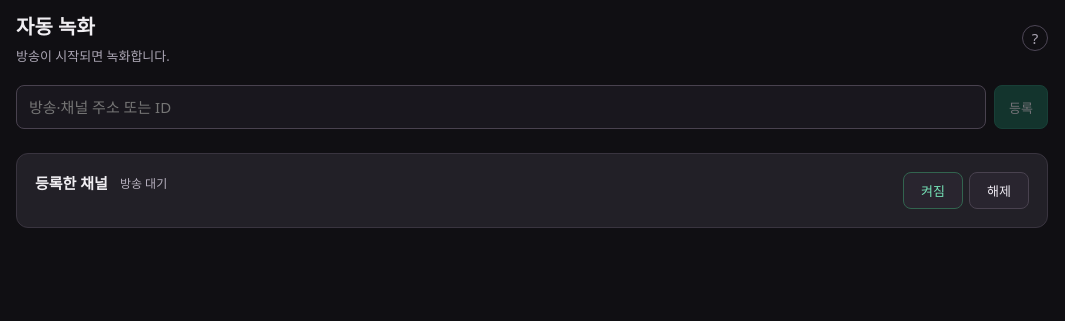
automatic recording registration › unregisters without deleting saved recordings and fences stale poll results
This screenshot has width=1065, height=321.
Step 1. Click the button "해제" → point(999, 190), box [969,172,1029,209]
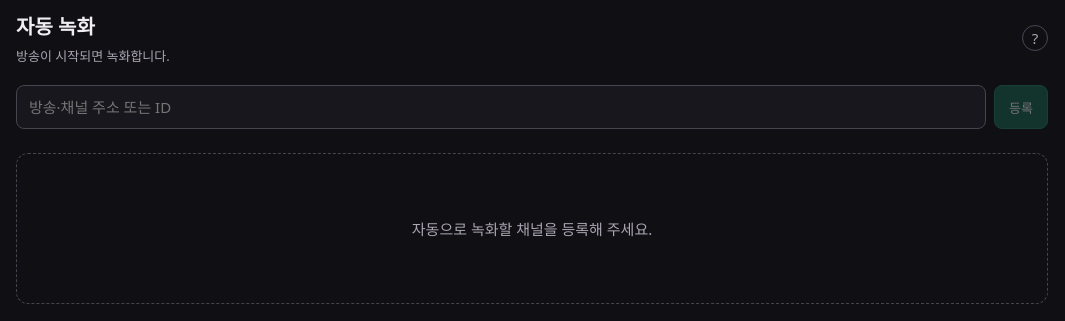
Result: the text "등록한 채널" is gone
